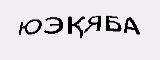З: (87, 23, 103, 51)
Л: (32, 24, 49, 43)
М: (47, 24, 71, 51)
С: (71, 25, 89, 49)
Ф: (102, 17, 129, 49)
